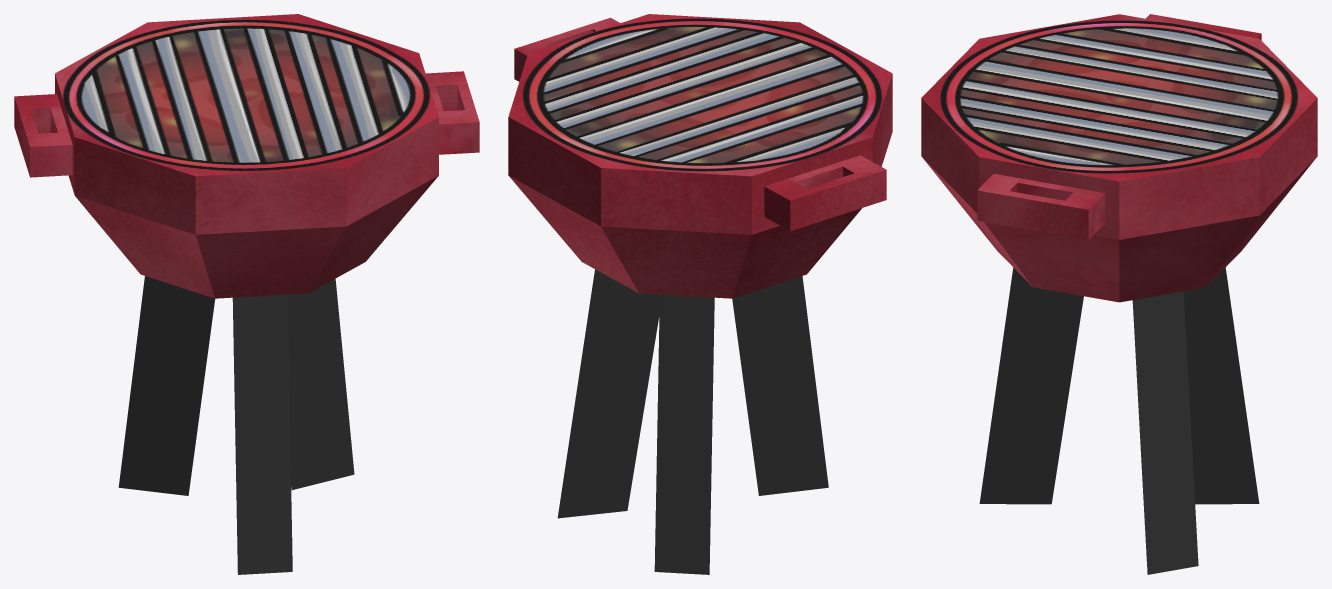
The model's file is churras.fbx.
The picture shows the model from 3 angles, left to right: view 1: azimuth 30°, elevation 25°; view 2: azimuth 150°, elevation 25°; view 3: azimuth 270°, elevation 25°; orthographic projection.
Visible parts, largest first — view 1: churras; view 2: churras; view 3: churras.
Boxes of the visible parts, left/top/right/bottom form: churras: left=14, top=14, right=479, bottom=574; churras: left=508, top=14, right=892, bottom=574; churras: left=921, top=14, right=1317, bottom=574.
Bounding box in the file's own units: 223 × 222 × 190.
Materials: 1 (1 with a texture image).
